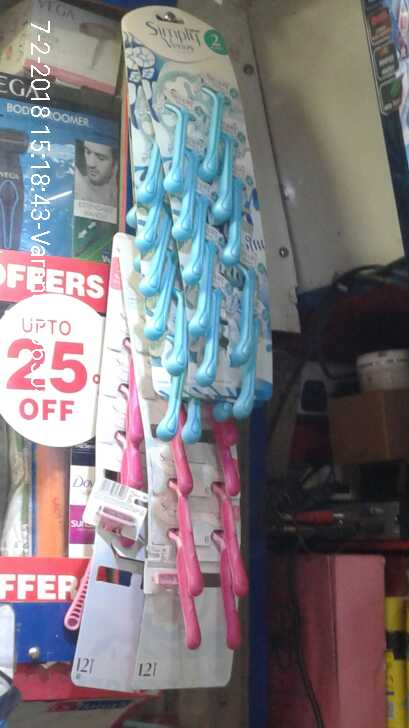reject: (293, 204, 348, 294)
